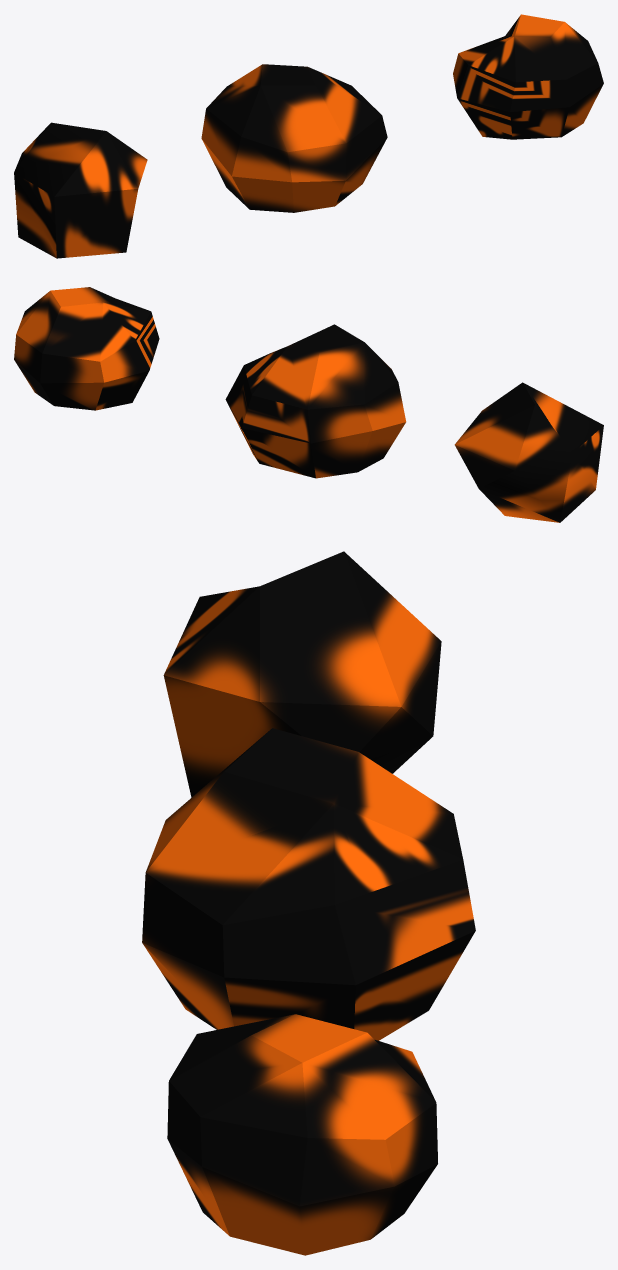
The model's file is Rocks.fbx.
3 renders of one model, top to bottom at view 1: azimuth 30°, elevation 25°; view 2: azimuth 150°, elevation 25°; view 3: azimuth 270°, elevation 25°, orthographic. The views are drawn at different scales.
Visible parts, largest first — view 1: Rock02, Rock03, Rock01; view 2: Rock02, Rock03, Rock01; view 3: Rock02, Rock01, Rock03.
Boxes of the visible parts, x1,y1,x2,y2 form: Rock02: (201,64,387,212); Rock03: (14,122,147,258); Rock01: (453,14,603,139); Rock02: (225,324,406,478); Rock03: (454,382,603,522); Rock01: (14,287,159,410); Rock02: (142,728,475,1040); Rock01: (167,1014,437,1255); Rock03: (163,551,441,797).
Bounding box in the file's own units: 1129 × 252 × 290.
